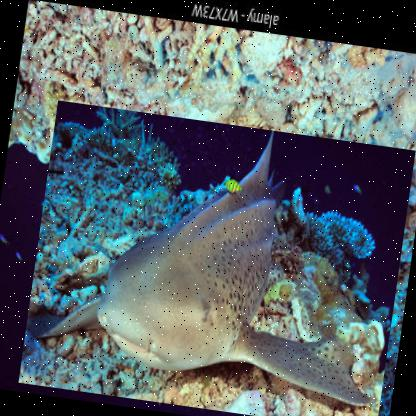zebra_shark: (17, 98, 416, 415)
